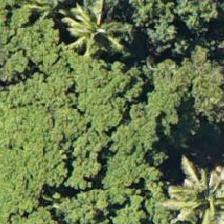coconut_tree: (159, 153, 223, 223)
